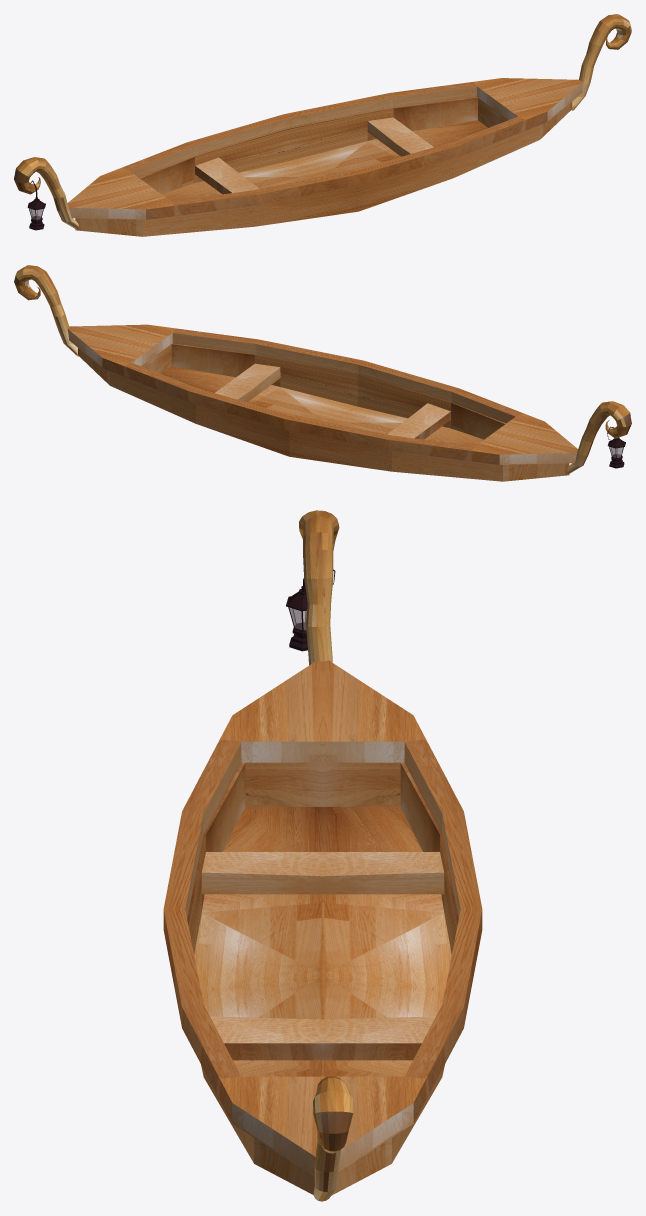
Rendered from Boat_ver2.fbx.
3 renders of one model, top to bottom at view 1: azimuth 30°, elevation 25°; view 2: azimuth 150°, elevation 25°; view 3: azimuth 270°, elevation 25°, orthographic. The views are drawn at different scales.
Visible parts, largest first — view 1: 舟本体, 飾り.001, 飾り, ランタン; view 2: 舟本体, 飾り.001, 飾り, ランタン; view 3: 舟本体, 飾り, 飾り.001, ランタン.
Boxes of the visible parts, x1=… form: 舟本体: x1=67, y1=78, x2=583, y2=236; 飾り.001: x1=571, y1=14, x2=631, y2=110; 飾り: x1=14, y1=157, x2=78, y2=229; ランタン: x1=27, y1=180, x2=45, y2=230; 舟本体: x1=68, y1=324, x2=577, y2=481; 飾り.001: x1=14, y1=265, x2=78, y2=356; 飾り: x1=567, y1=401, x2=631, y2=474; ランタン: x1=607, y1=426, x2=625, y2=468; 舟本体: x1=163, y1=660, x2=482, y2=1195; 飾り: x1=299, y1=510, x2=339, y2=665; 飾り.001: x1=313, y1=1076, x2=353, y2=1201; ランタン: x1=286, y1=569, x2=335, y2=651.
Size of the model in its own units: 12.46 by 2.11 by 2.81.
4 materials, 2 textured.
